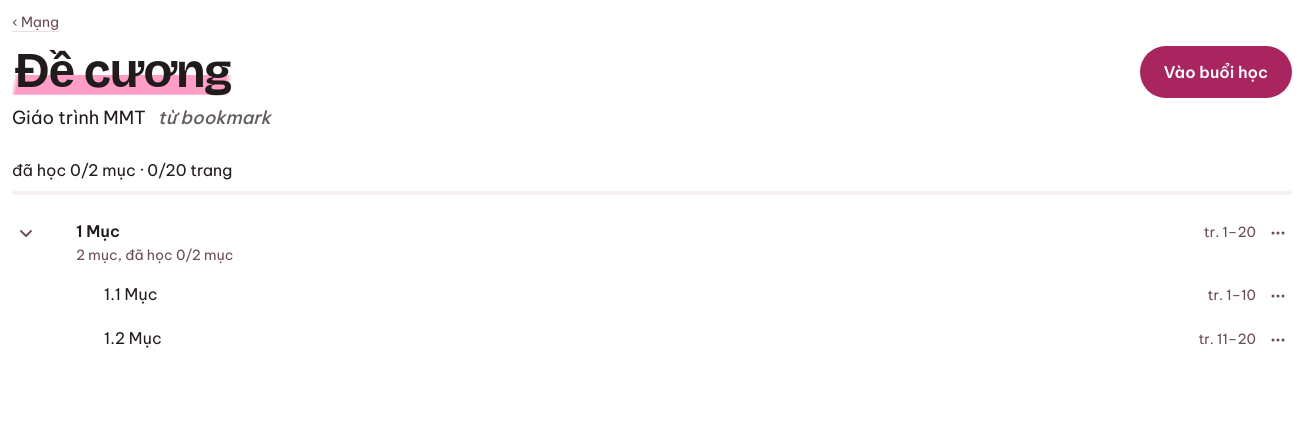
SyllabusLive (US-13) › US-13 AC4: marking a leaf studied PATCHes it and shows core-api's answer
Press Enter in the list item "1.1 Mục tr. 1–10", box left=12, top=274, right=1292, bottom=318
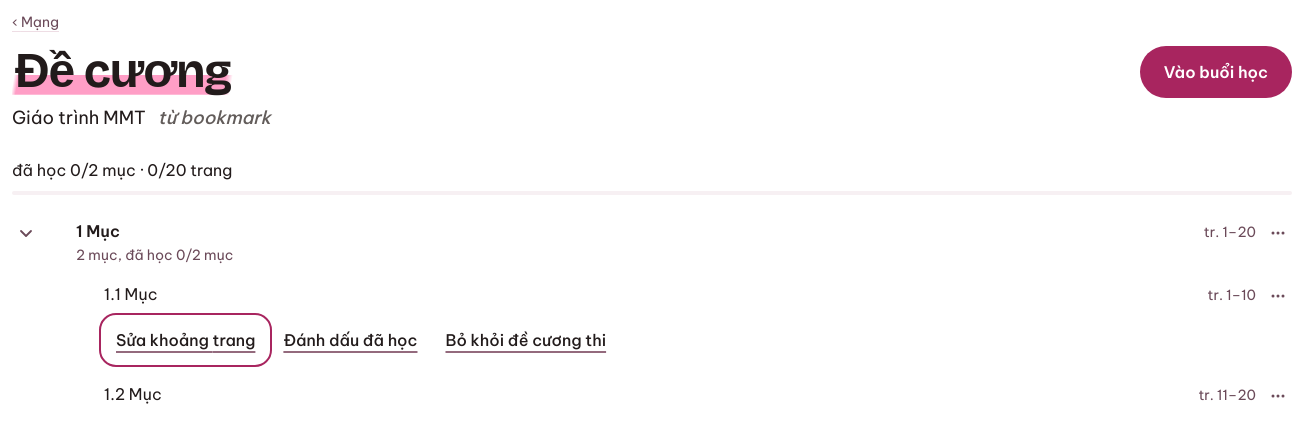
Click the button "Đánh dấu đã học" at (350,340), box left=271, top=318, right=430, bottom=362
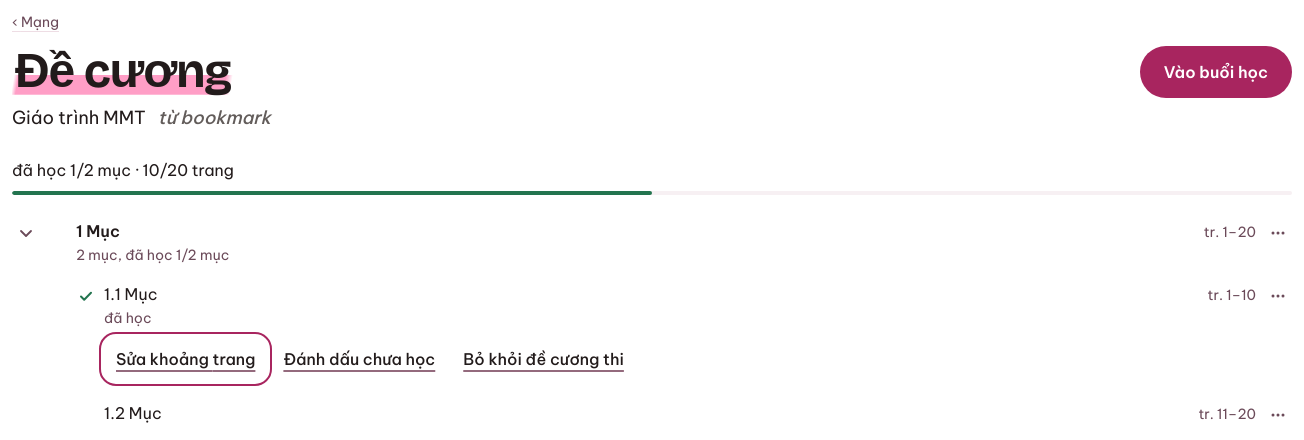
Check: the text "đã học 1/2 mục · 10/20 trang" is shown, box left=12, top=160, right=234, bottom=180
